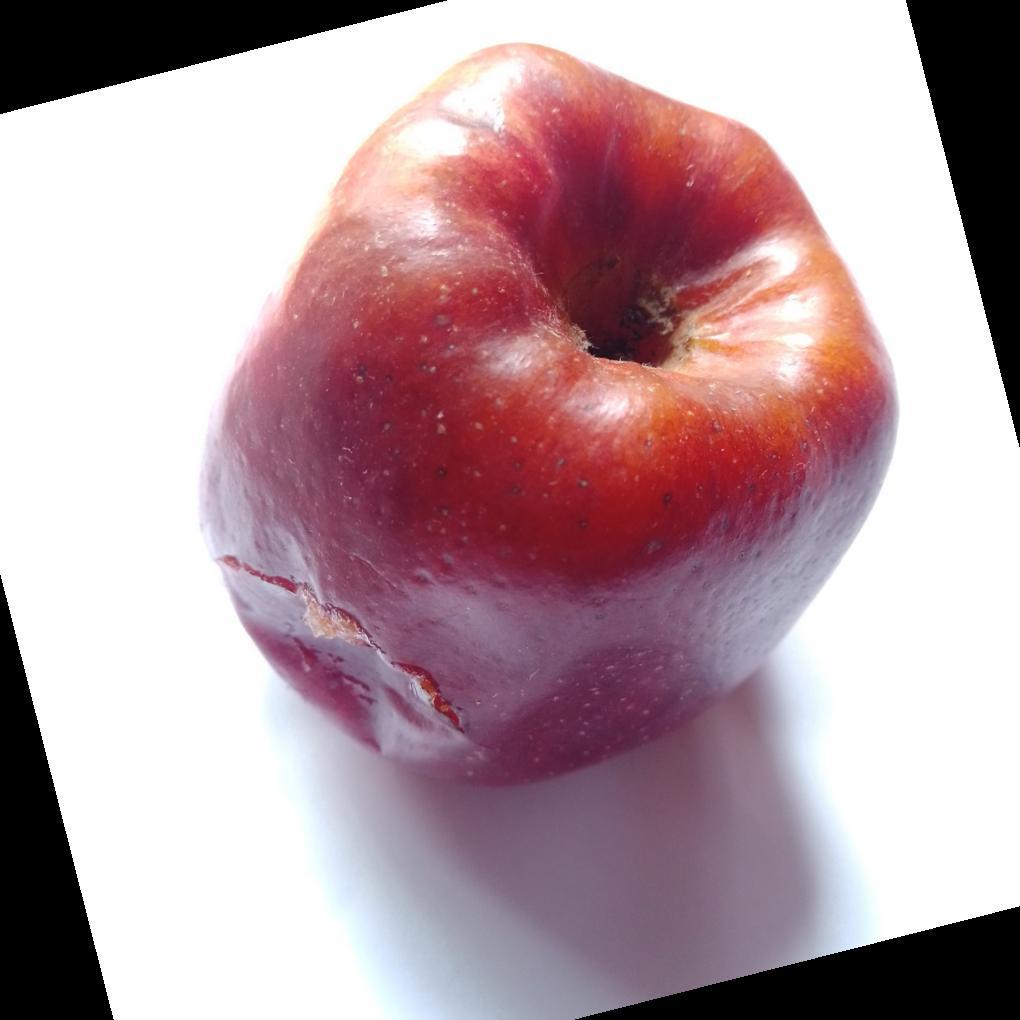FreshOrange: (196, 41, 901, 793)
